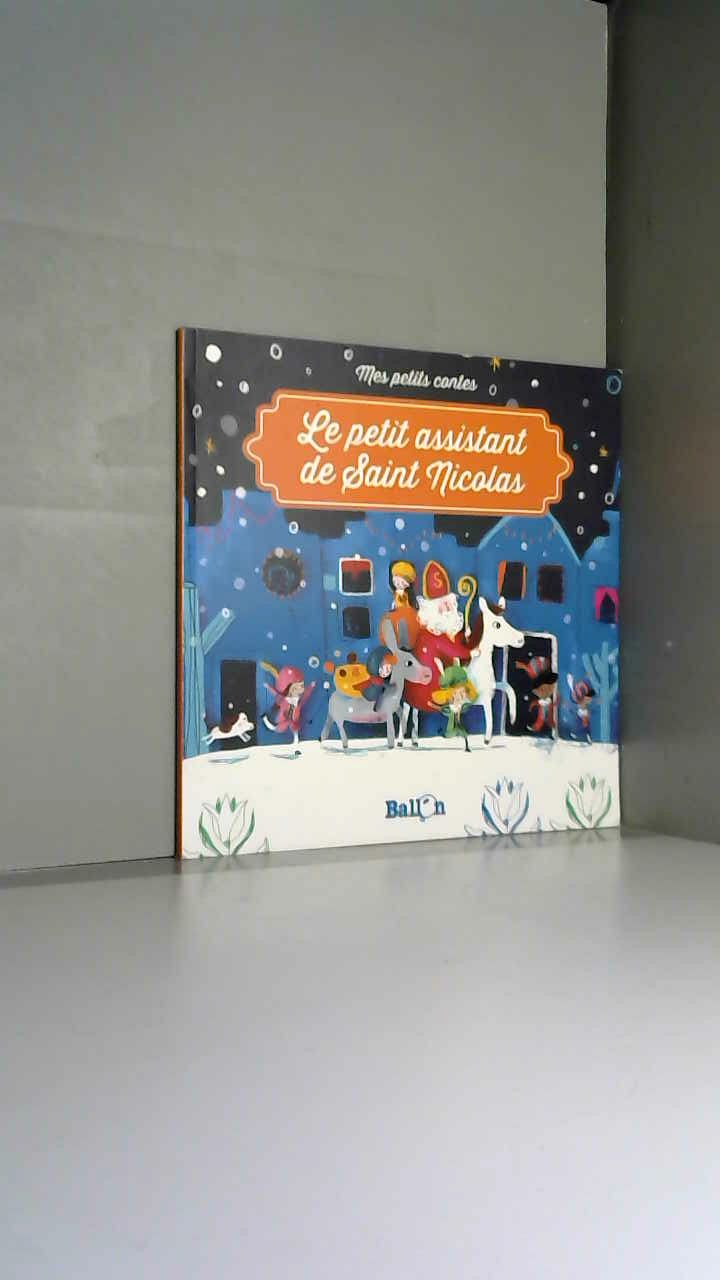book: (140, 300, 715, 920)
